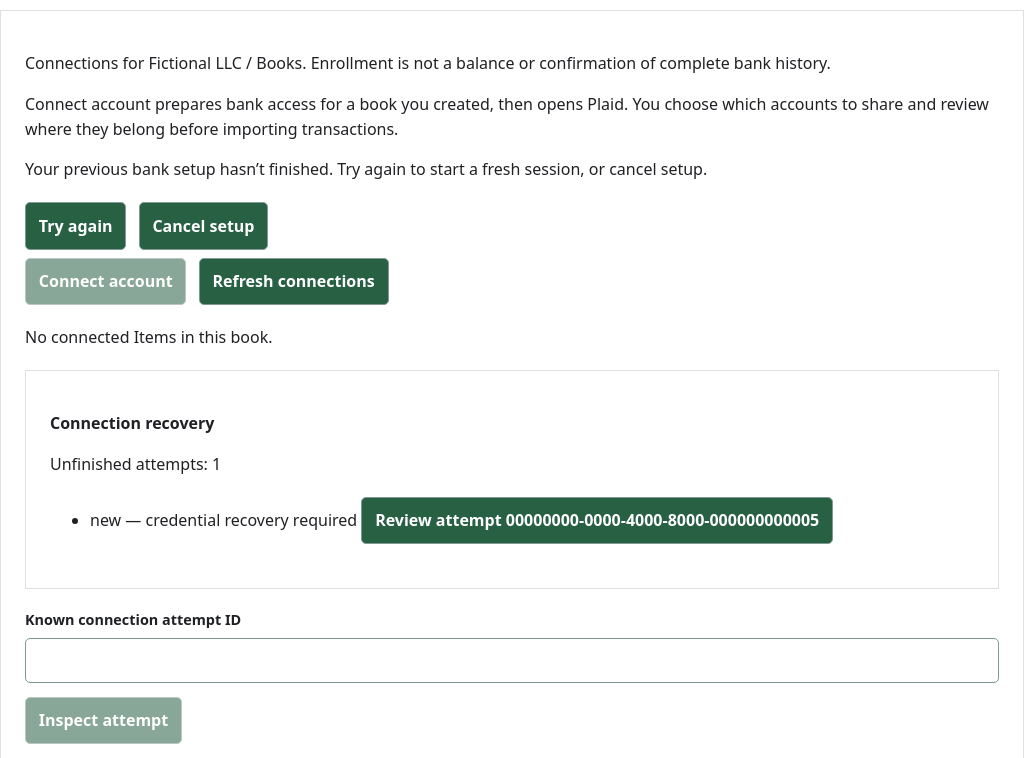
Scenario: resolves a failed setup with retry=true after confirming no stored credential
Expected: the text "Unfinished attempts: 1" is shown, 50,453 -> 221,475
Step 1. Type "00000000-0000-4000-8000-000000000005" into the field labelled "Known connection attempt ID" → (512, 661), box 25,638 -> 999,683
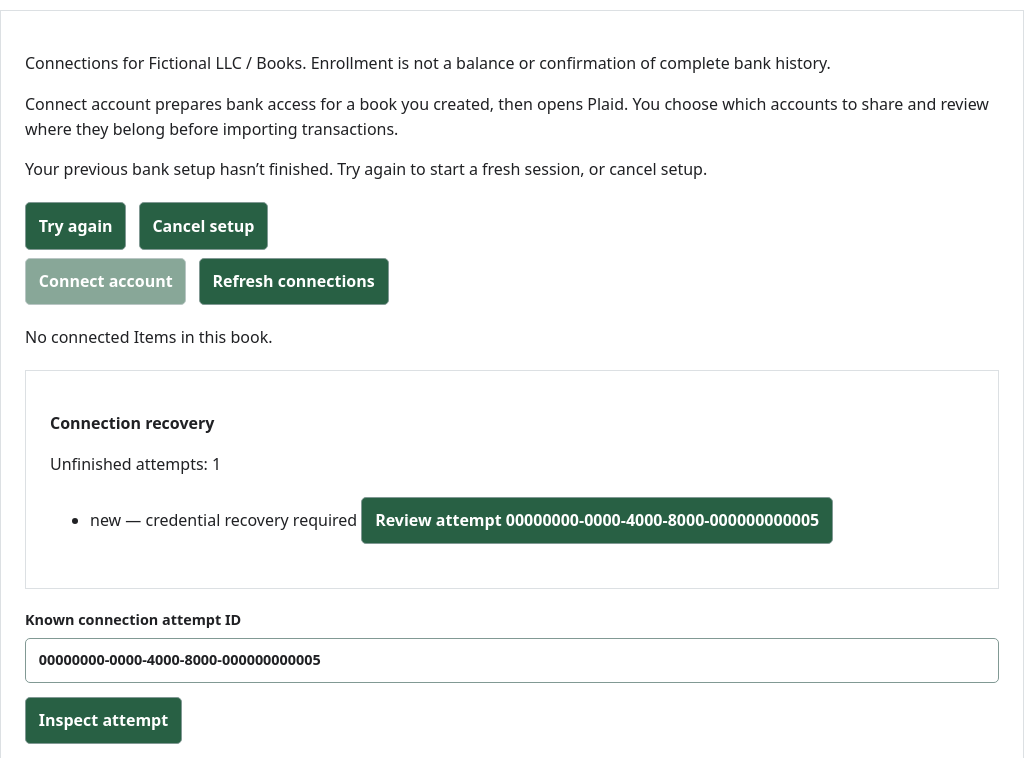
Step 2. Click the button "Inspect attempt" → click(104, 720), box 25,697 -> 182,744
(page scrolled)
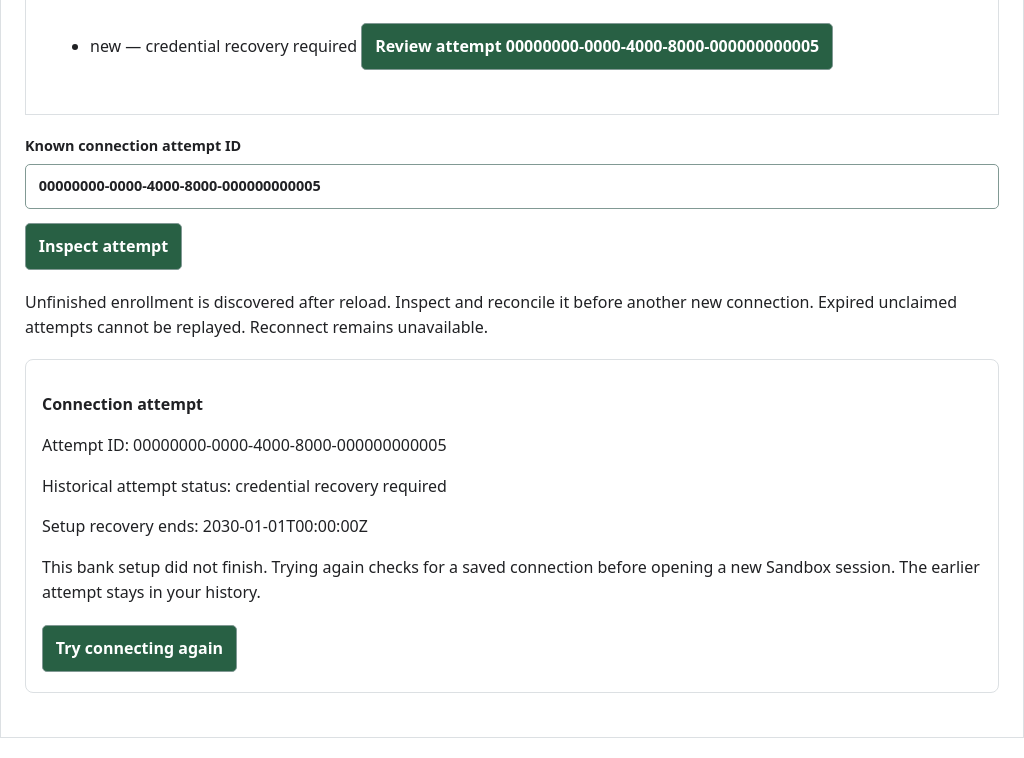
Expected: the text "Historical attempt status: credential recovery required" is shown, 42,475 -> 447,497
Step 3. Click the button "Try connecting again" → click(139, 649), box 42,625 -> 237,672
(page scrolled)
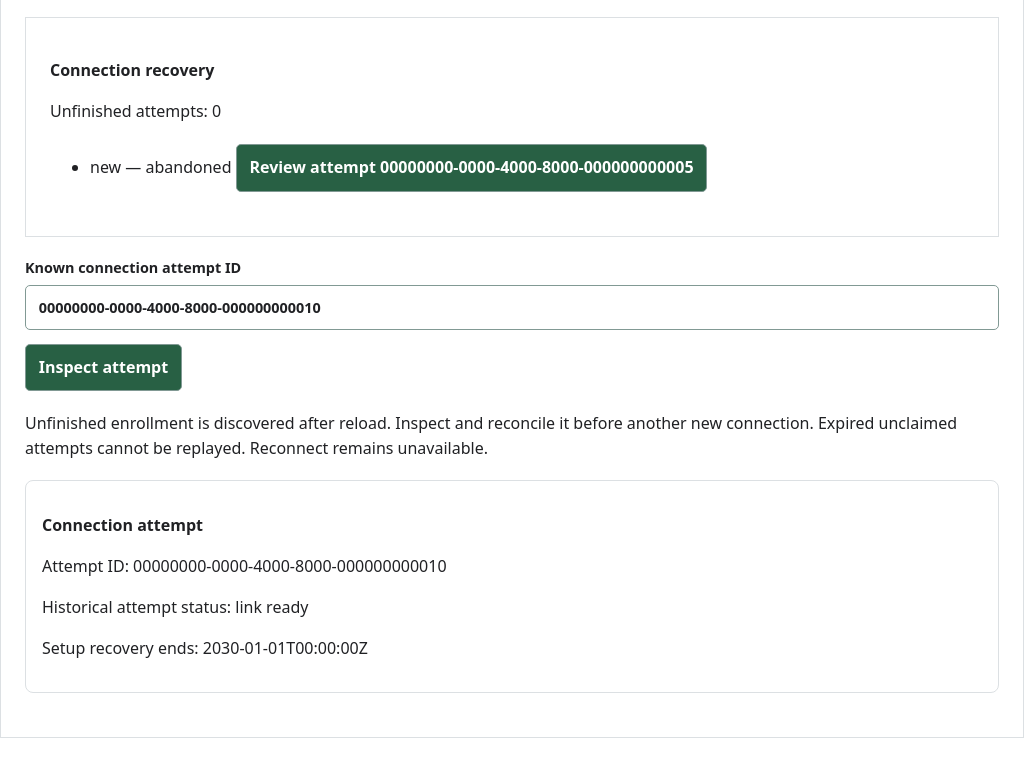
Expected: the text "Unfinished attempts: 0" is shown, 50,100 -> 221,122
